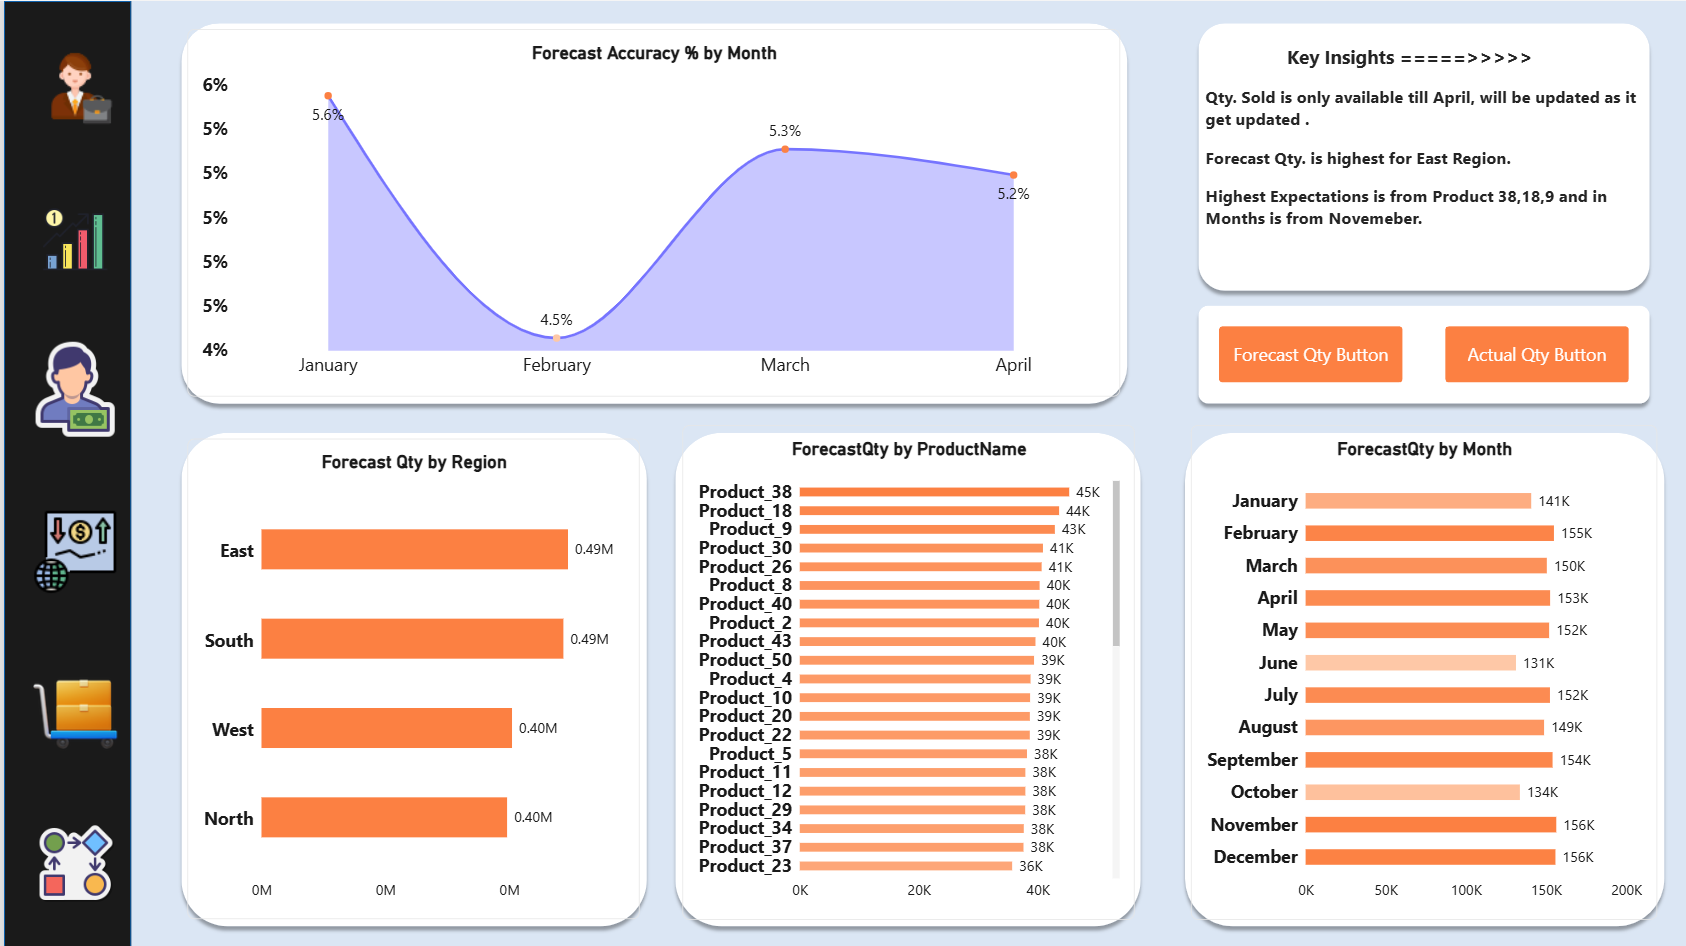

The dashboard page shown, as its layout file describes it:
{"tool":"powerbi","page":{"name":"Forecast Dashboard","canvas":[1920,1080],"ordinal":3},"visuals":[{"type":"shape","box":[1344,336,528,128],"z":0},{"type":"shape","box":[752,480,544,576],"z":1000},{"type":"shape","box":[192,480,544,576],"z":2000},{"type":"clusteredBarChart","title":"Forecast Qty by Region","fields":{"Category":["Fact_Forecast.Region"],"Y":["Sum(Fact_Forecast.ForecastQty)"]},"box":[208,496,512,544],"z":3000},{"type":"shape","box":[0,0,144,1072],"z":4000},{"type":"image","box":[16,224,128,96],"z":5000},{"type":"image","box":[16,576,128,96],"z":6000},{"type":"image","box":[16,384,128,112],"z":7000},{"type":"image","box":[16,48,128,96],"z":8000},{"type":"image","box":[16,752,128,112],"z":9000},{"type":"image","box":[16,928,128,96],"z":10000},{"type":"shape","box":[1328,480,560,576],"z":11000},{"type":"shape","box":[192,16,1088,448],"z":12000},{"type":"areaChart","title":"Forecast Accuracy % by Month","fields":{"Category":["month.monthname"],"Y":["_Measure.Forecast Accuracy %"]},"box":[208,32,1056,416],"z":13000},{"type":"clusteredBarChart","fields":{"Category":["DimProduct.ProductName"],"Y":["Sum(Fact_Forecast.ForecastQty)"]},"box":[768,480,512,560],"z":14000},{"type":"clusteredBarChart","fields":{"Category":["month.monthname"],"Y":["Sum(Fact_Forecast.ForecastQty)"]},"box":[1344,480,528,560],"z":15000},{"type":"actionButton","box":[1376,368,208,64],"z":17000},{"type":"actionButton","box":[1632,368,208,64],"z":18000},{"type":"shape","box":[1344,16,528,320],"z":19000},{"type":"textbox","box":[1376,48,432,32],"z":20000},{"type":"textbox","box":[1360,96,496,224],"z":21000}]}

Visuals, with their boxes on the page's 1920x1080 design canvas (x1, y1, x2, y2). These are canvas units, not pixel positions in the 1686x946 screenshot, which may show the page scaled, cropped or inside an application window:
shape: {"left": 1344, "top": 336, "right": 1872, "bottom": 464}
shape: {"left": 752, "top": 480, "right": 1296, "bottom": 1056}
shape: {"left": 192, "top": 480, "right": 736, "bottom": 1056}
"Forecast Qty by Region" clusteredBarChart: {"left": 208, "top": 496, "right": 720, "bottom": 1040}
shape: {"left": 0, "top": 0, "right": 144, "bottom": 1072}
image: {"left": 16, "top": 224, "right": 144, "bottom": 320}
image: {"left": 16, "top": 576, "right": 144, "bottom": 672}
image: {"left": 16, "top": 384, "right": 144, "bottom": 496}
image: {"left": 16, "top": 48, "right": 144, "bottom": 144}
image: {"left": 16, "top": 752, "right": 144, "bottom": 864}
image: {"left": 16, "top": 928, "right": 144, "bottom": 1024}
shape: {"left": 1328, "top": 480, "right": 1888, "bottom": 1056}
shape: {"left": 192, "top": 16, "right": 1280, "bottom": 464}
"Forecast Accuracy % by Month" areaChart: {"left": 208, "top": 32, "right": 1264, "bottom": 448}
clusteredBarChart - DimProduct.ProductName x Sum(Fact_Forecast.ForecastQty): {"left": 768, "top": 480, "right": 1280, "bottom": 1040}
clusteredBarChart - month.monthname x Sum(Fact_Forecast.ForecastQty): {"left": 1344, "top": 480, "right": 1872, "bottom": 1040}
actionButton: {"left": 1376, "top": 368, "right": 1584, "bottom": 432}
actionButton: {"left": 1632, "top": 368, "right": 1840, "bottom": 432}
shape: {"left": 1344, "top": 16, "right": 1872, "bottom": 336}
textbox: {"left": 1376, "top": 48, "right": 1808, "bottom": 80}
textbox: {"left": 1360, "top": 96, "right": 1856, "bottom": 320}
